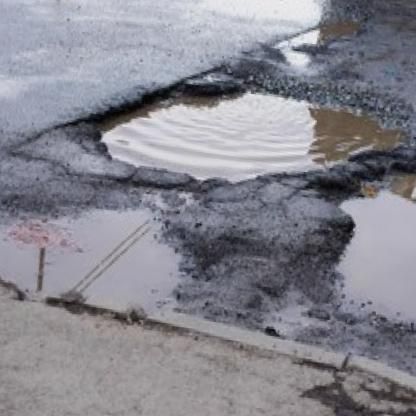pothole: (82, 56, 411, 203), (0, 178, 197, 325), (321, 132, 416, 344)
